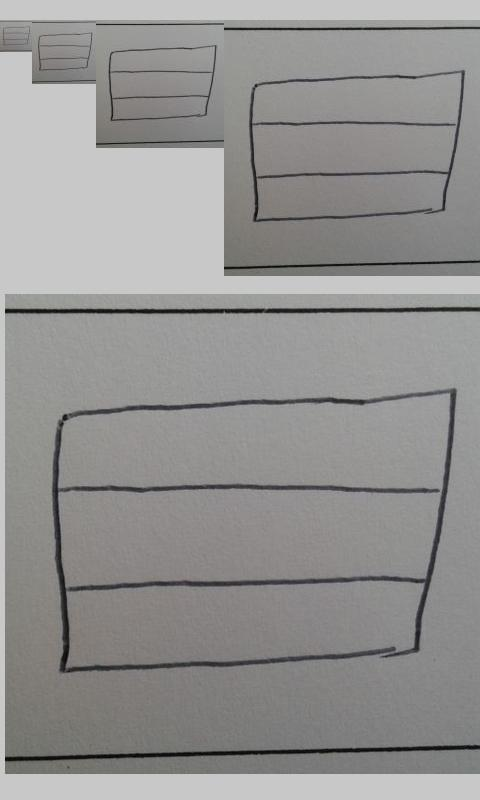list_view: (51, 384, 458, 676), (246, 69, 467, 224), (108, 44, 218, 123), (37, 32, 93, 71), (2, 26, 31, 46)
